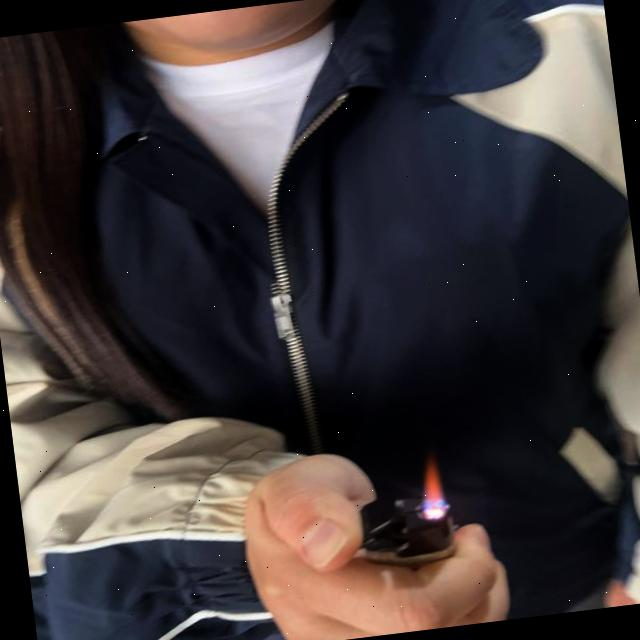fire: (416, 454, 449, 508)
